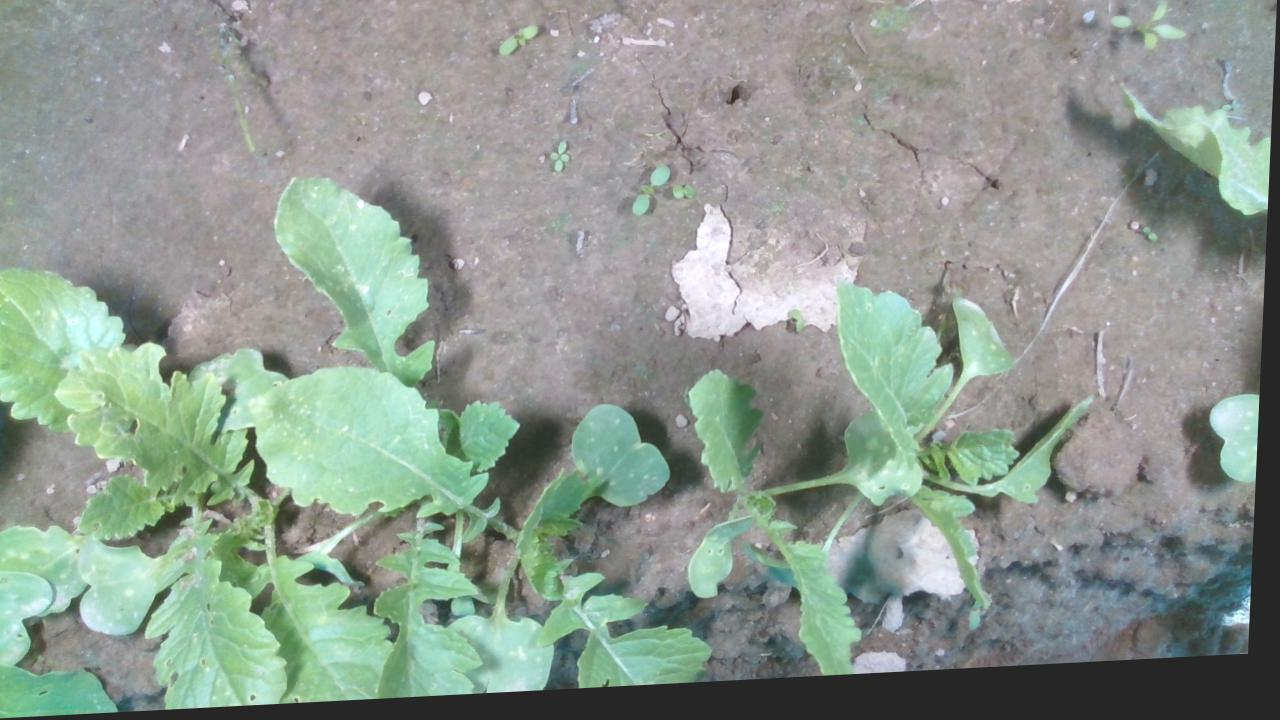weed: (631, 169, 673, 224), (495, 28, 539, 62), (548, 142, 574, 179), (672, 189, 698, 206), (1143, 236, 1160, 255)
